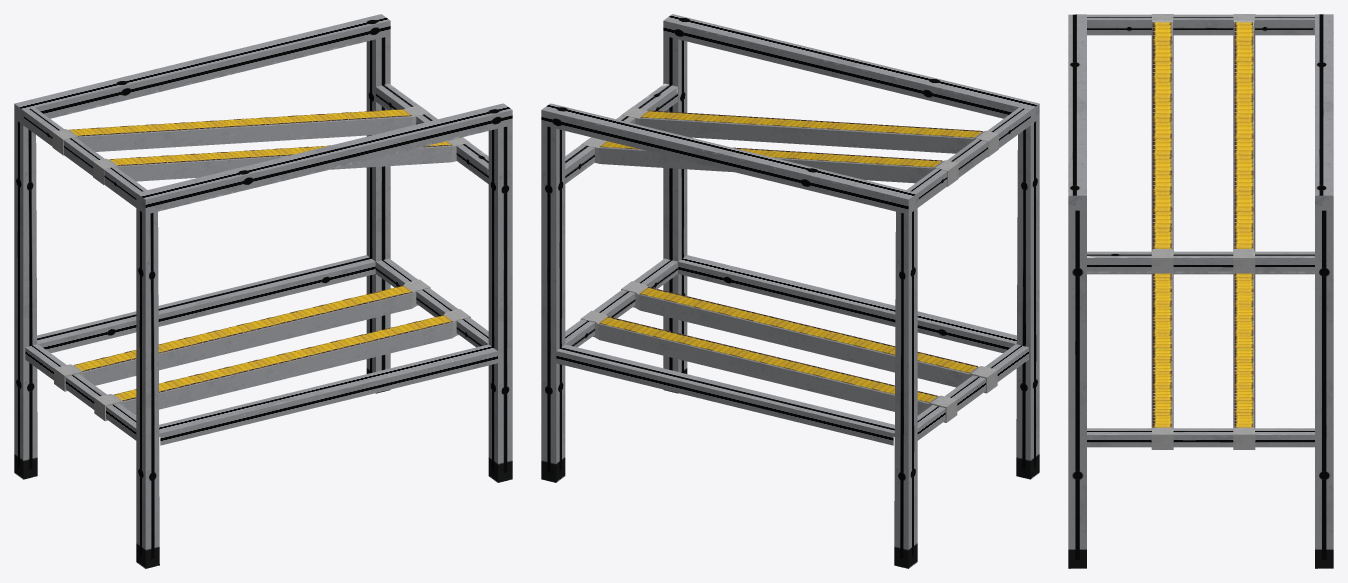
File: TieJiaZi.FBX
The picture shows the model from 3 angles, left to right: view 1: azimuth 30°, elevation 25°; view 2: azimuth 150°, elevation 25°; view 3: azimuth 270°, elevation 25°; orthographic projection.
Visible parts, largest first — view 1: YF_Model_TieJiaZi; view 2: YF_Model_TieJiaZi; view 3: YF_Model_TieJiaZi.
Boxes of the visible parts, x1,y1,x2,y2 form: YF_Model_TieJiaZi: (14, 14, 512, 568); YF_Model_TieJiaZi: (541, 14, 1039, 568); YF_Model_TieJiaZi: (1068, 14, 1333, 568).
Size of the model in its own units: 115 by 110 by 70.99.
